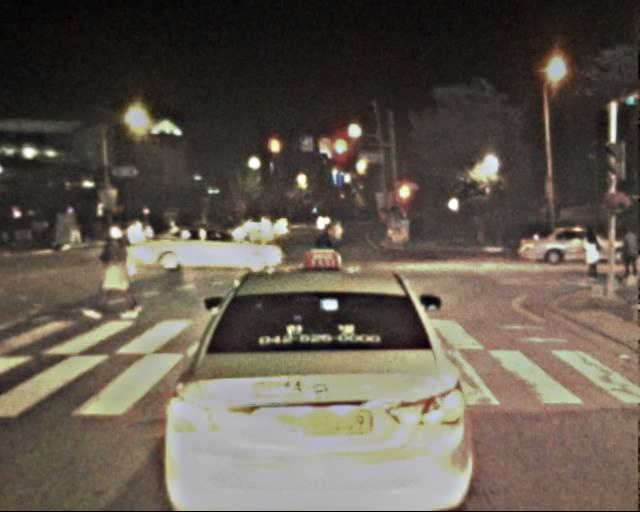person: (309, 218, 358, 338), (95, 217, 137, 322), (580, 227, 603, 282), (619, 230, 640, 281)
